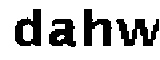a: (49, 18, 80, 51)
d: (8, 5, 45, 51)
h: (81, 4, 115, 50)
w: (115, 14, 160, 50)
